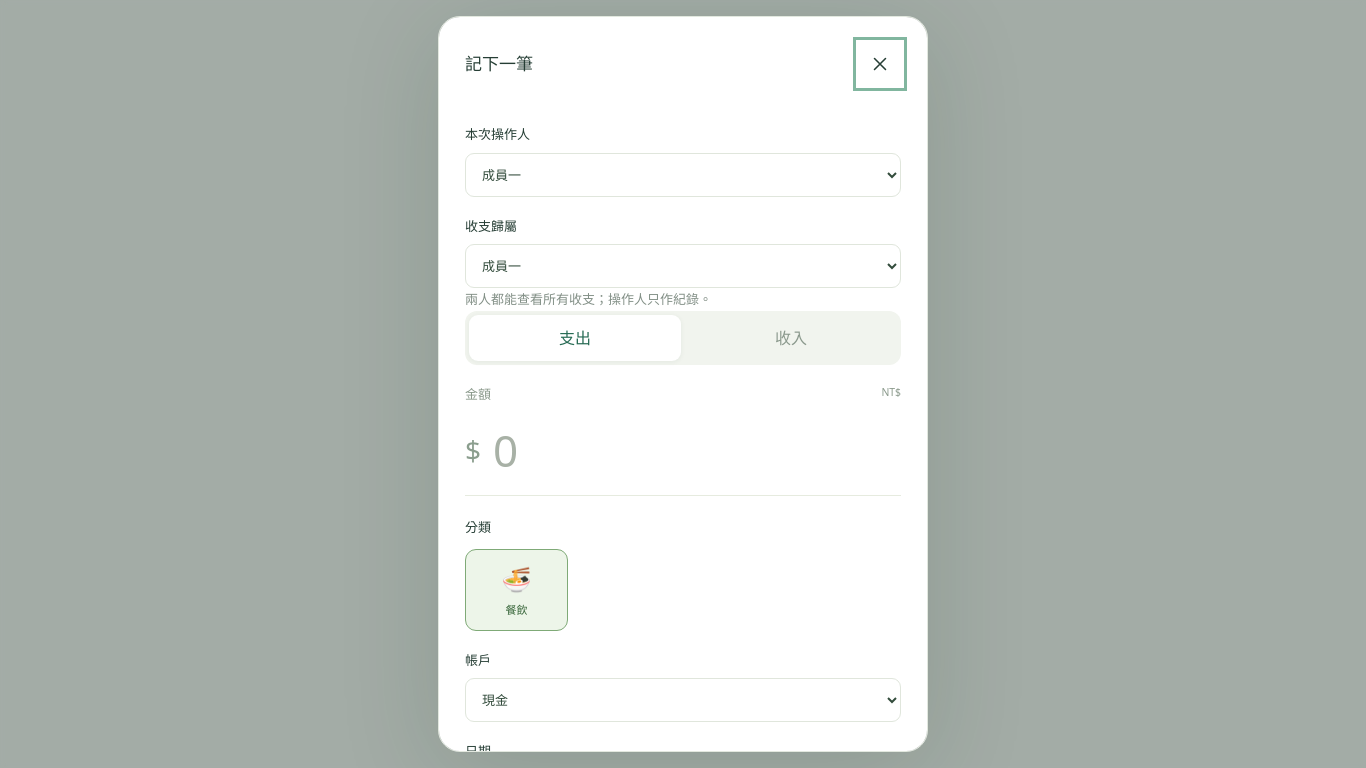
Scenario: switches category grids with transaction type
Expected: the text "薪資" is not shown
Step 1. Click the button "收入" → click(791, 338), box [685, 315, 897, 361]
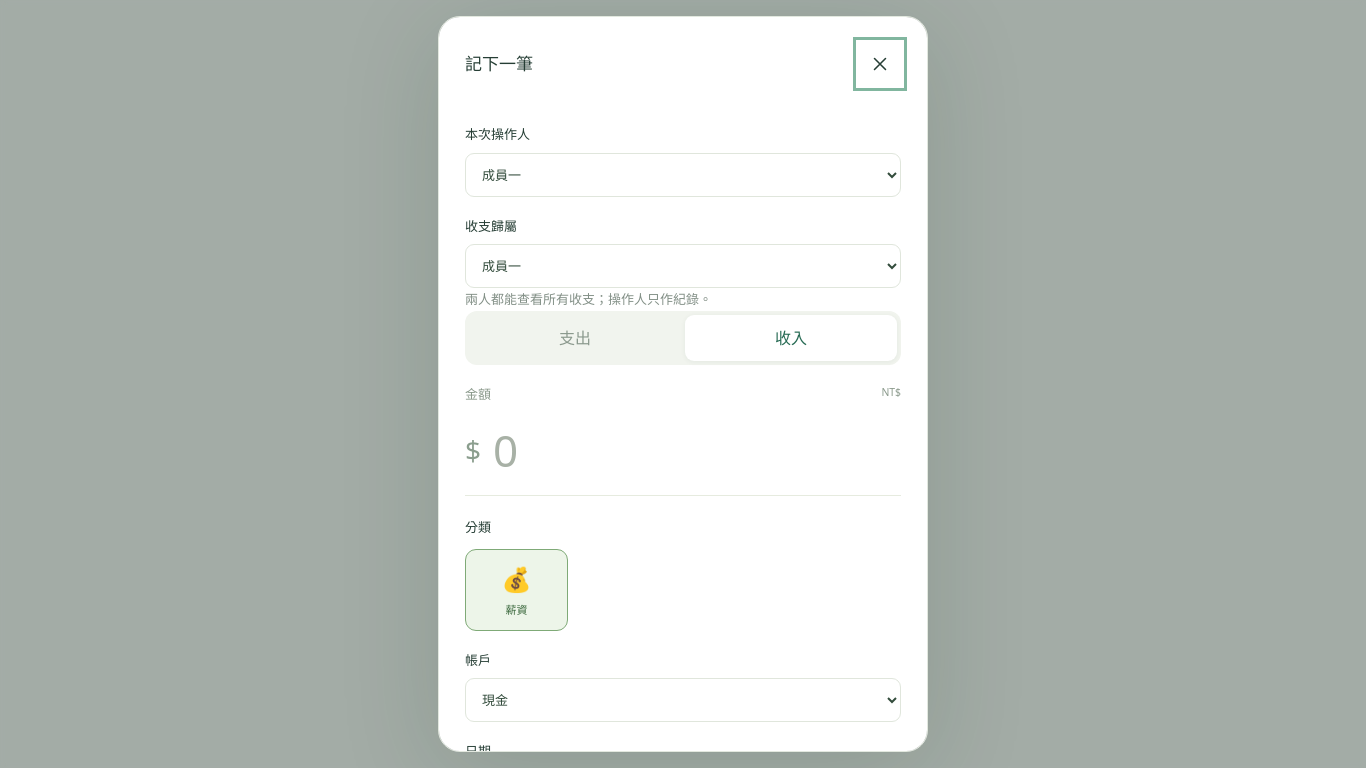
Now the button "💰 薪資" is shown, box [465, 549, 568, 631]
Now the button "餐飲" is gone
